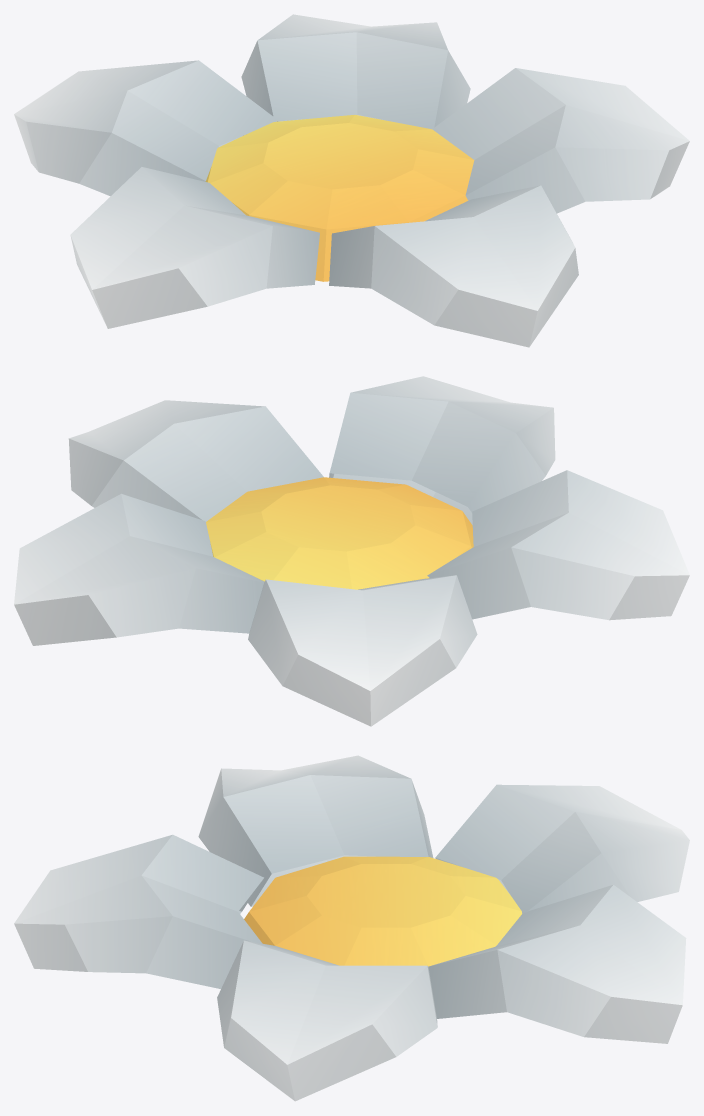
File: Flower1.glb
The picture shows the model from 3 angles, top to bottom: view 1: azimuth 30°, elevation 25°; view 2: azimuth 150°, elevation 25°; view 3: azimuth 270°, elevation 25°; orthographic projection.
Visible parts, largest first — view 1: Flower1; view 2: Flower1; view 3: Flower1.
Boxes of the visible parts, left/top/right/bottom form: Flower1: left=14, top=14, right=689, bottom=347; Flower1: left=14, top=376, right=689, bottom=726; Flower1: left=14, top=755, right=689, bottom=1101.
Bounding box in the file's own units: 0.6751 × 0.0987 × 0.655.
1 material, 1 textured.
